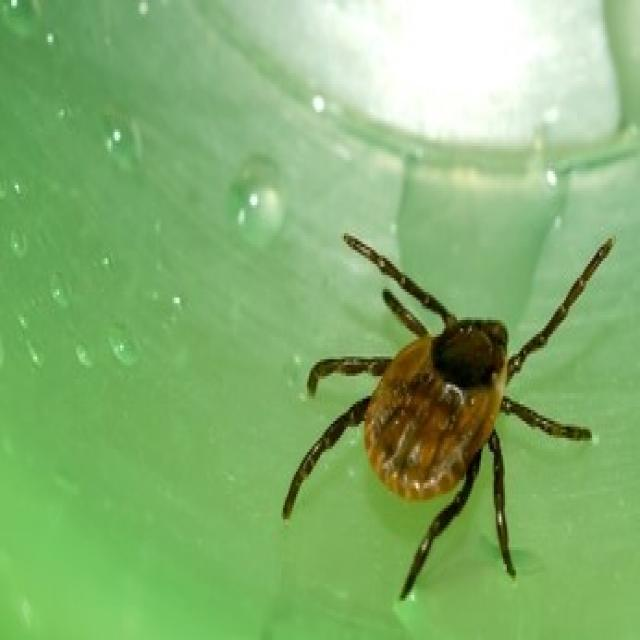Rhipicephalus Sanguineus-F: (283, 236, 616, 604)
